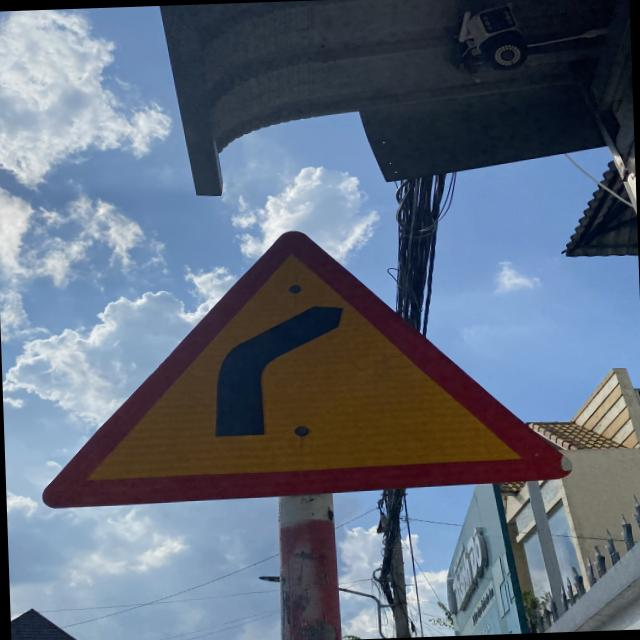Duong_Nguoi_Di_Bo_Cat_Ngang: (31, 220, 572, 504)
